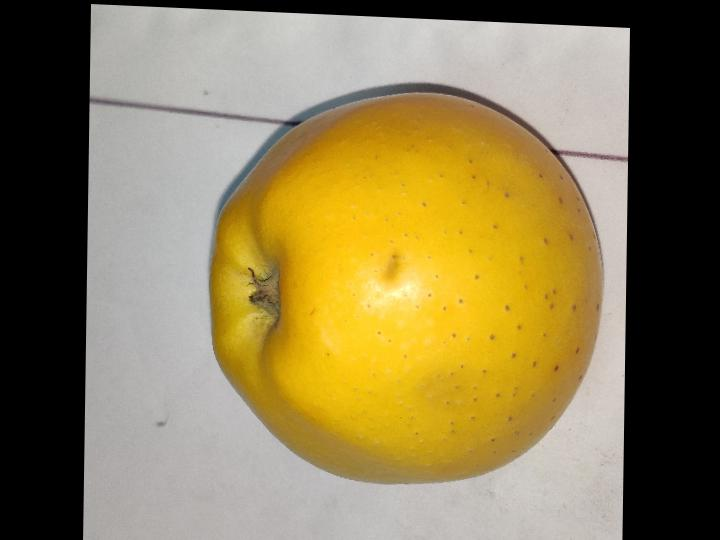apple: (210, 94, 601, 483)
surface_damage: (380, 254, 398, 282)
